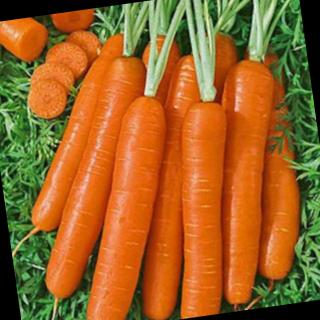Wortel: (51, 93, 192, 320), (193, 58, 305, 306), (151, 98, 256, 320)
